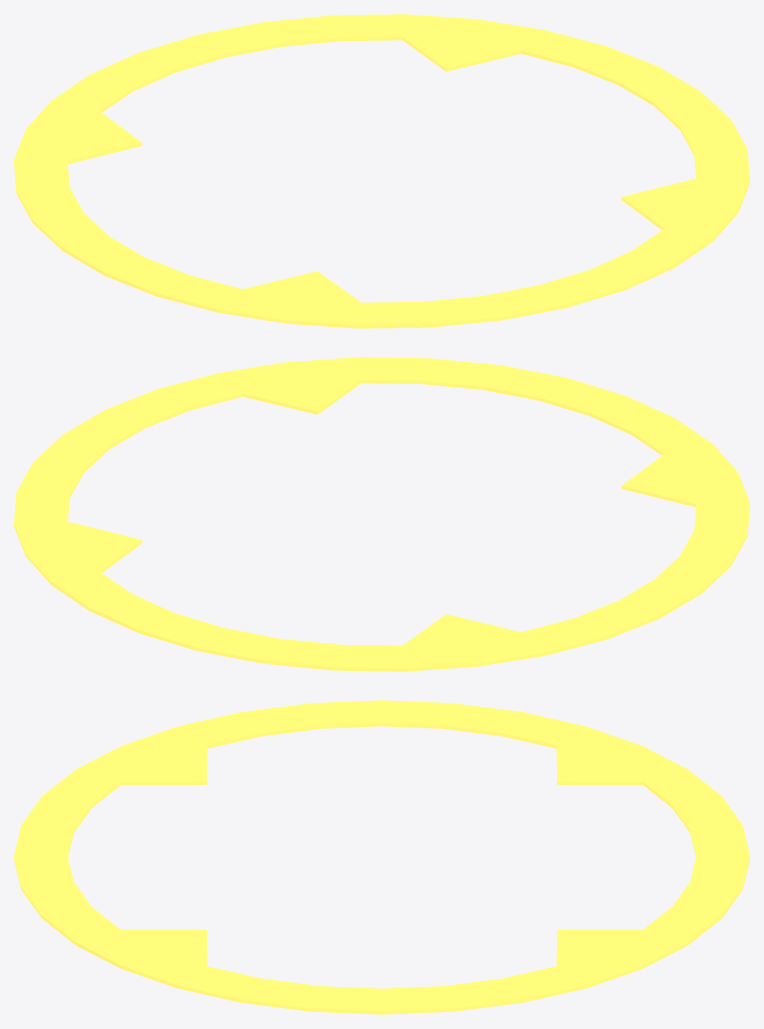
The model's file is EnemyLocation.fbx.
3 views of the same model, one above another, from view 1: azimuth 30°, elevation 25°; view 2: azimuth 150°, elevation 25°; view 3: azimuth 270°, elevation 25° (orthographic).
Visible parts, largest first — view 1: Circle; view 2: Circle; view 3: Circle.
Boxes of the visible parts, box(x1,y1,x2,y2) form: Circle: box(14, 14, 749, 328); Circle: box(14, 357, 749, 671); Circle: box(14, 700, 749, 1014).
Bounding box in the file's own units: 200 × 1 × 200.
